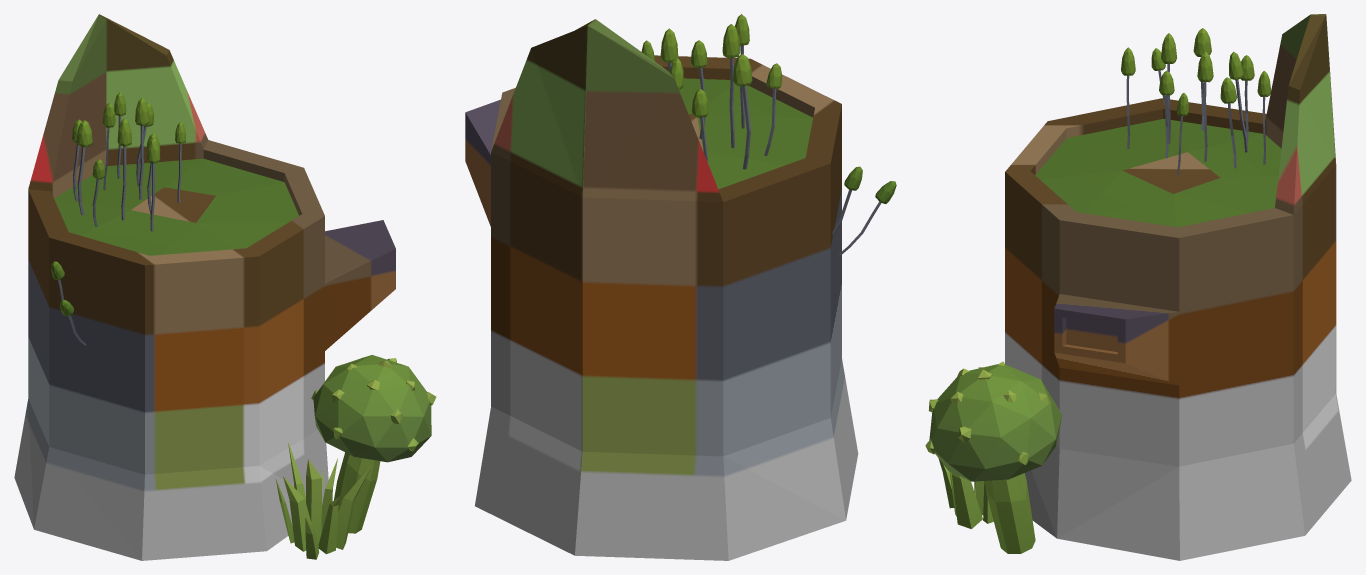
The model's file is Stump_10.fbx.
3 views of the same model, side by side, from view 1: azimuth 30°, elevation 25°; view 2: azimuth 150°, elevation 25°; view 3: azimuth 270°, elevation 25° (orthographic). The views are drawn at different scales.
Visible parts, largest first — view 1: Stump_10; view 2: Stump_10; view 3: Stump_10.
Boxes of the visible parts, x1,y1,x2,y2 form: Stump_10: (14, 14, 436, 560); Stump_10: (465, 14, 896, 560); Stump_10: (925, 14, 1351, 560).
Size of the model in its own units: 1.6 by 1.97 by 1.59.
